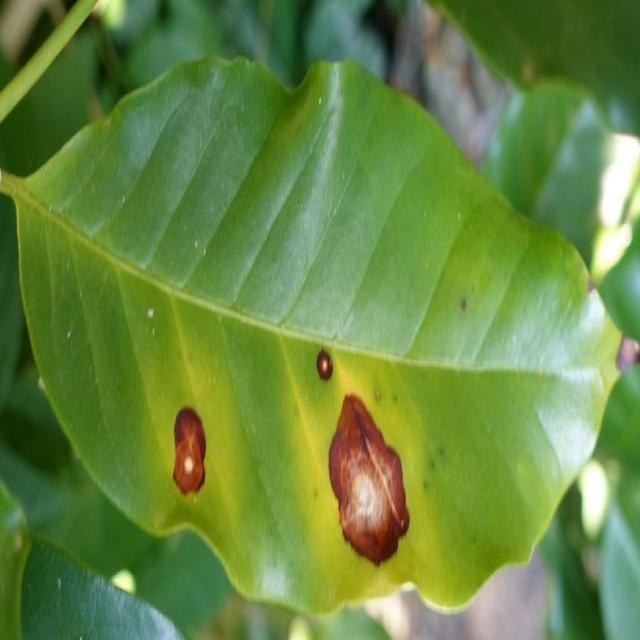Enfermedad-Mancha-de-hierro: (0, 56, 634, 617)
